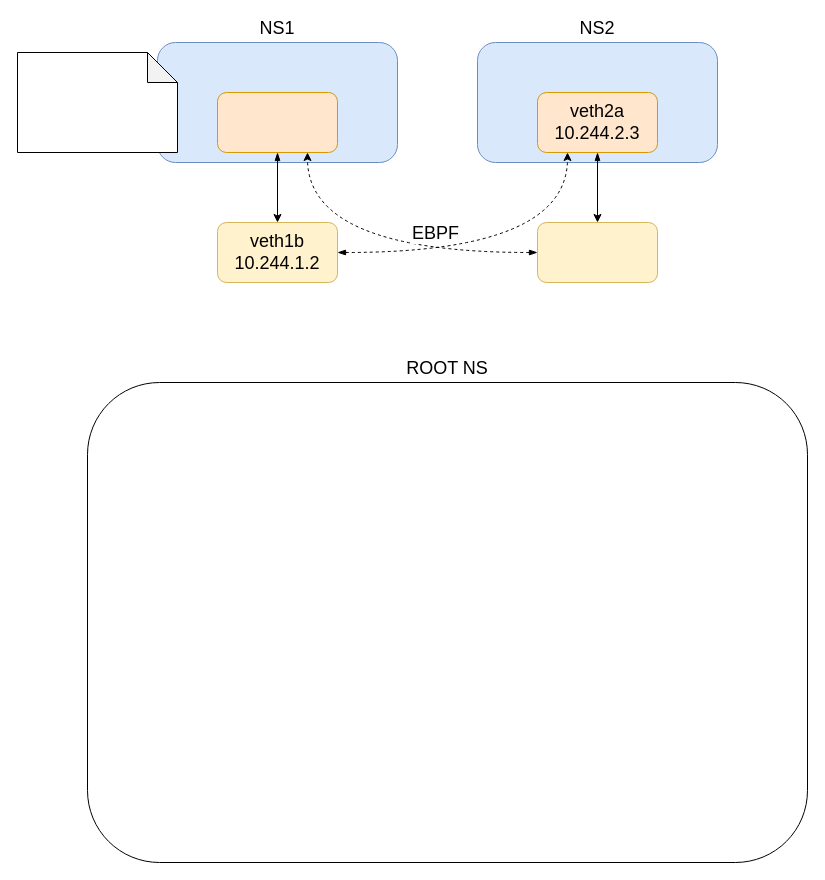
The diagram is 825 pixels wide and 880 high, and some of its shapes have lost their labels. The box of each missing label's shape, as (x1, y1, x2, y2) in pixels:
route: 10.244.1.0 veth1a 10.244.2.0 veth1a arp: 10.244.2.3: (16, 52, 178, 152)
veth1a 10.244.1.3: (216, 92, 338, 152)
veth2b 10.244.2.2: (536, 222, 658, 282)
